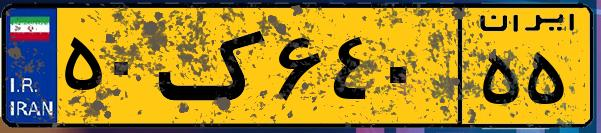0: (385, 28, 445, 110), (110, 28, 158, 98)
4: (330, 28, 385, 110)
5: (57, 26, 110, 100), (475, 38, 525, 113), (525, 38, 570, 115)
6: (270, 28, 330, 110)
ک: (158, 12, 270, 120)
